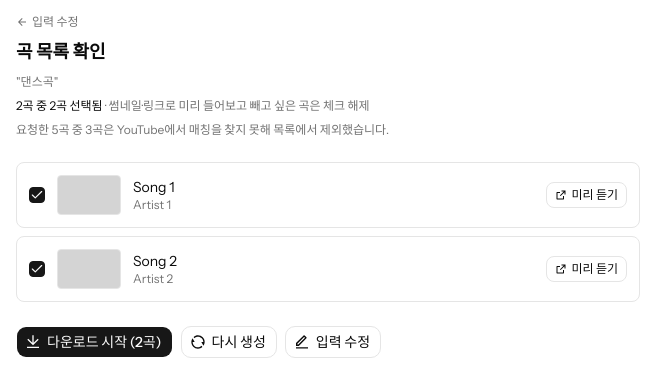
ListConfirmScreen › disables 다운로드 시작 when no item is selected
The image size is (657, 375).
What coordinates should you click on to do the following:
click the checkbox named "Song 1 선택"
I would click on:
 (37, 195)
Its box is [29, 187, 45, 203].
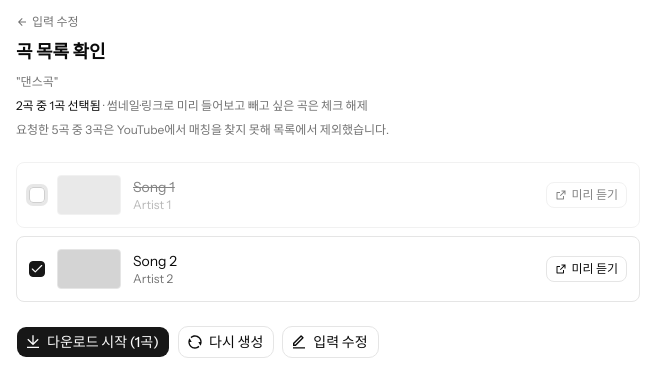
What coordinates should you click on to do the following:
click the checkbox named "Song 2 선택"
I would click on:
 (37, 269)
Its box is [29, 261, 45, 277].
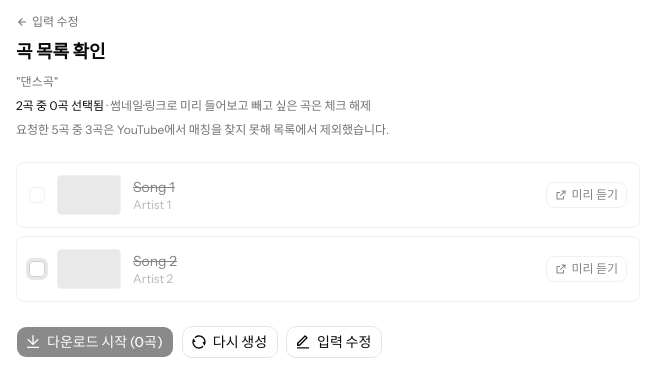
Now the button "다운로드 시작 (0곡)" is disabled, box [16, 326, 174, 358]
